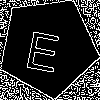E: (23, 21, 64, 73)
